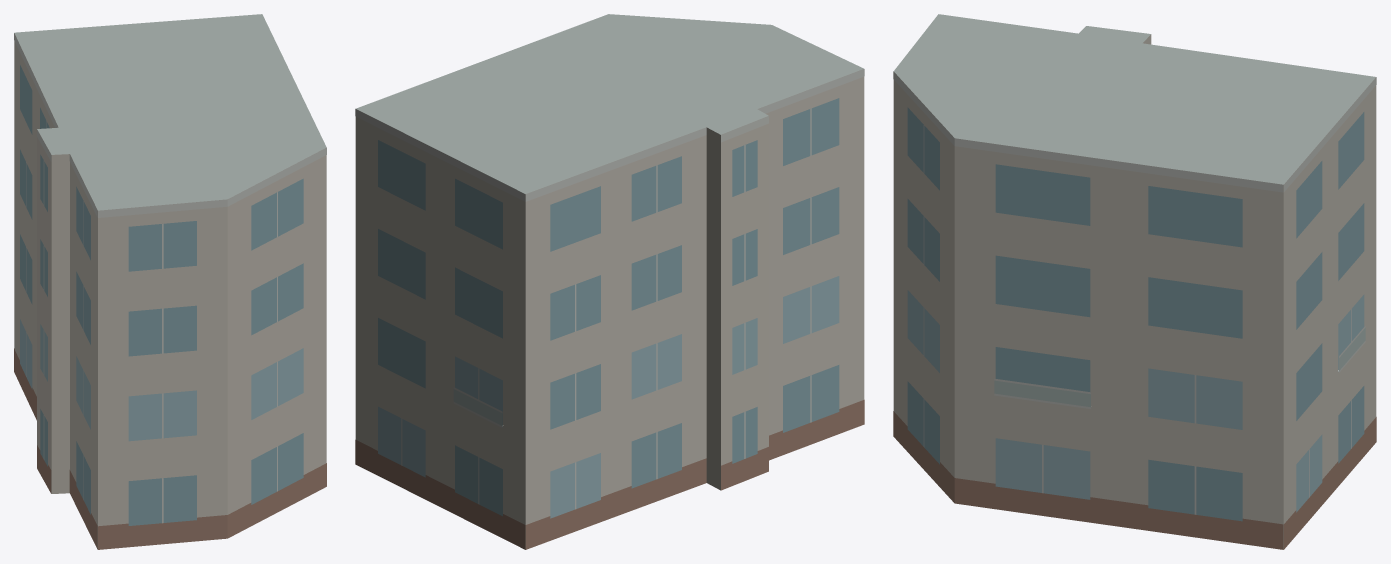
The model's file is survey-upis-32892015.glb.
3 views of the same model, side by side, from view 1: azimuth 30°, elevation 25°; view 2: azimuth 150°, elevation 25°; view 3: azimuth 270°, elevation 25° (orthographic). The views are drawn at different scales.
Visible parts, largest first — view 1: survey-upis-32892015.tmp; view 2: survey-upis-32892015.tmp; view 3: survey-upis-32892015.tmp.
Boxes of the visible parts, x1,y1,x2,y2 form: survey-upis-32892015.tmp: (14, 14, 326, 549); survey-upis-32892015.tmp: (355, 14, 864, 549); survey-upis-32892015.tmp: (893, 14, 1376, 549).
Size of the model in its own units: 11.24 by 11.2 by 13.43.
